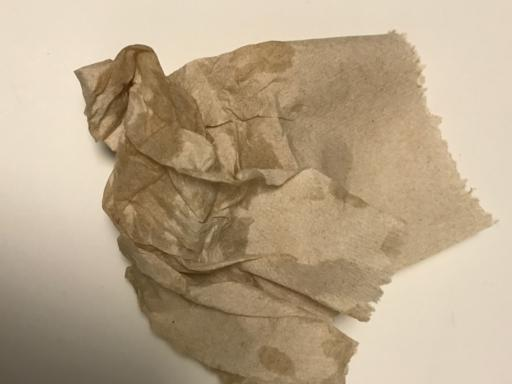trash: (77, 30, 500, 383)
